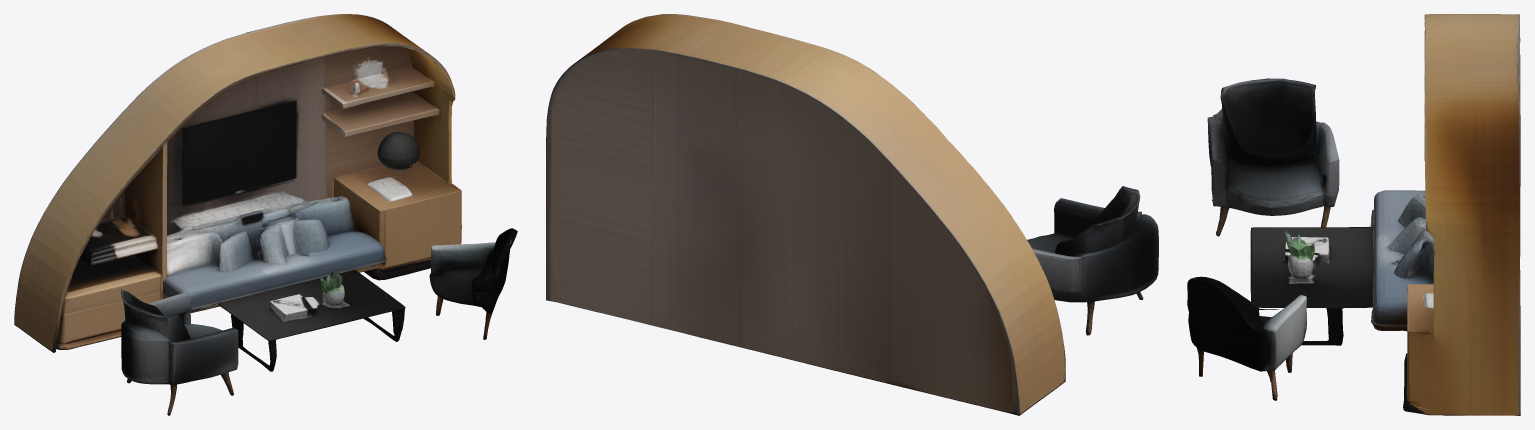
The model's file is trellis_generated_c9539413.glb.
3 renders of one model, left to right at view 1: azimuth 30°, elevation 25°; view 2: azimuth 150°, elevation 25°; view 3: azimuth 270°, elevation 25°, orthographic. The views are drawn at different scales.
Parts seen in each view (by area): view 1: world; view 2: world; view 3: world.
Boxes of the visible parts, bbox=[...] form: world: bbox=[14, 14, 517, 415]; world: bbox=[546, 14, 1158, 415]; world: bbox=[1187, 14, 1520, 415].
Bounding box in the file's own units: 0.999 × 0.5689 × 0.605.
1 material, 1 textured.
